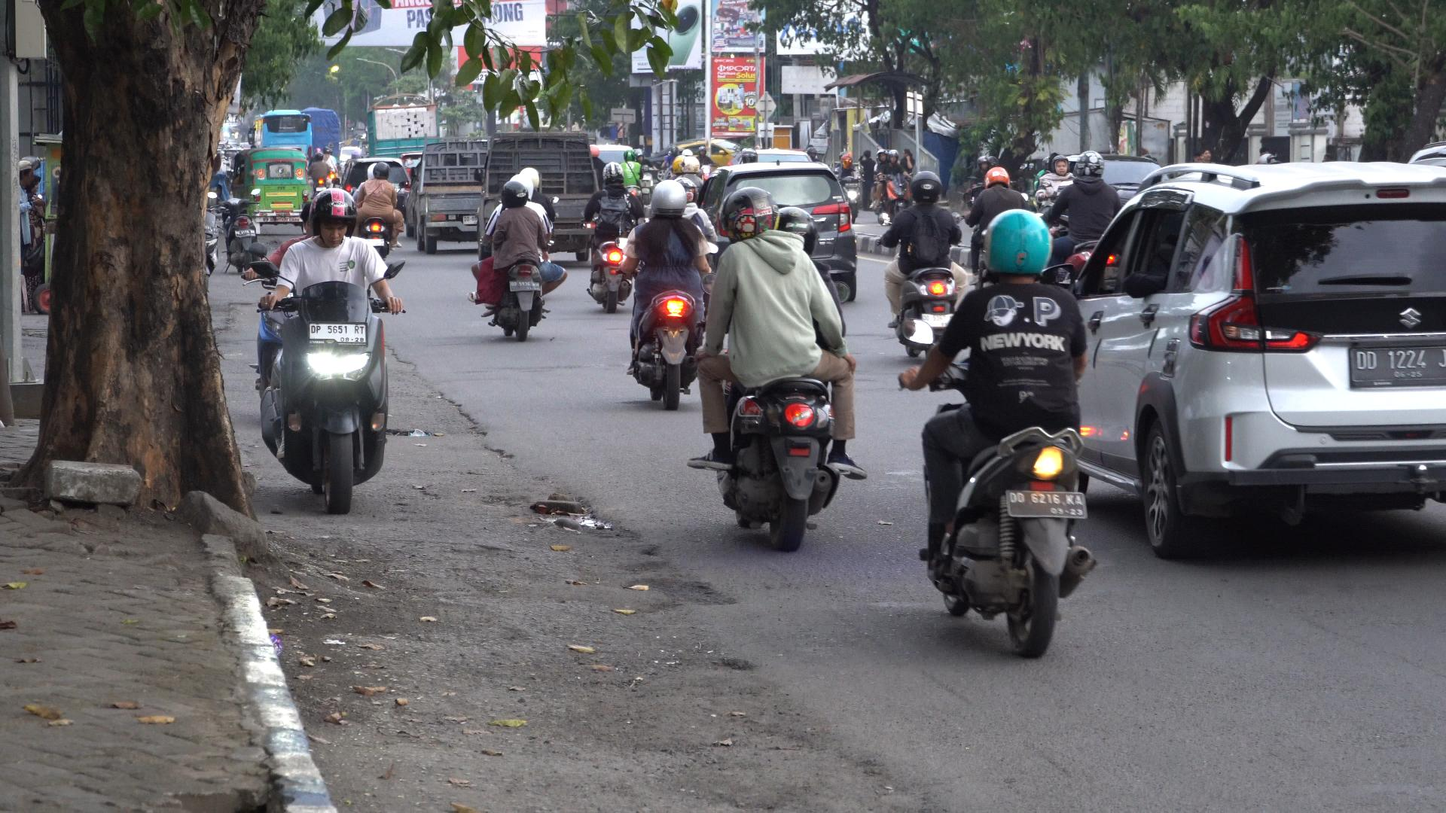number-plate: (305, 319, 367, 347)
